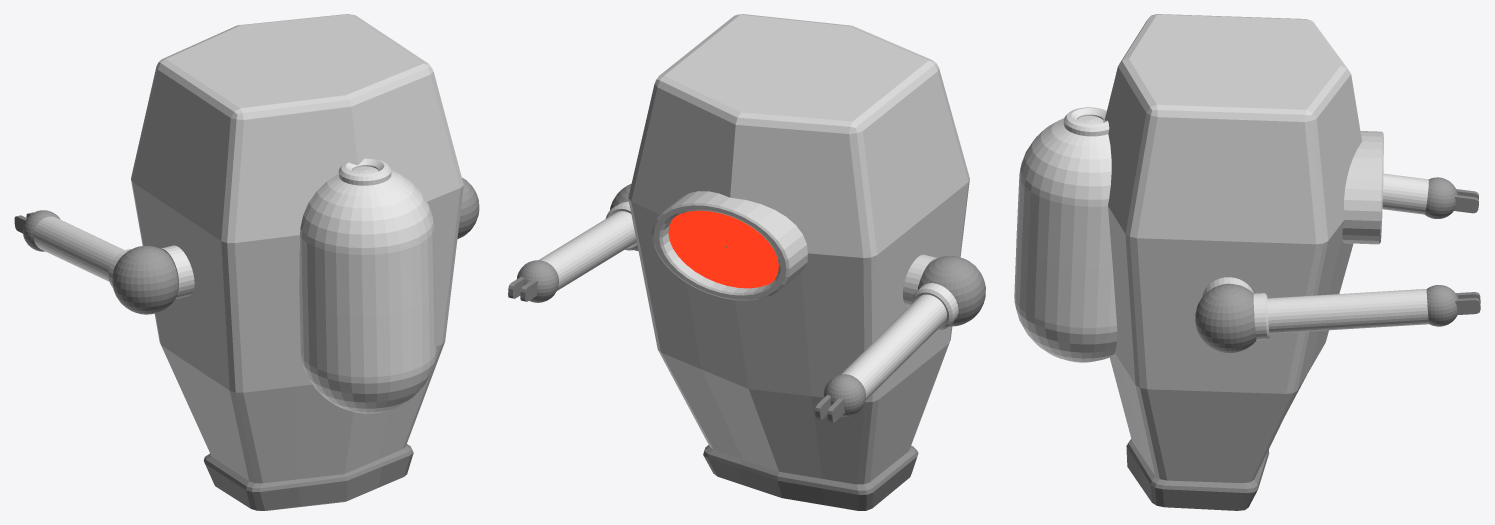
Rendered from Enemy_Robot_1_hovering.fbx.
The picture shows the model from 3 angles, left to right: view 1: azimuth 30°, elevation 25°; view 2: azimuth 150°, elevation 25°; view 3: azimuth 270°, elevation 25°; orthographic projection. The views are drawn at different scales.
Visible parts, largest first — view 1: Enemy-Body, Tank, shoulder-left, Arm-left, Cylinder, shoulder-right, Hand-left; view 2: Enemy-Body, Eye, Arm-left, Arm-right, shoulder-left, Hand-left, Hand-left.001, Cylinder; view 3: Enemy-Body, Tank, Arm-right, Eye, shoulder-right, Arm-left, Hand-left.001, Hand-left.
Boxes of the visible parts, left/top/right/bottom form: Enemy-Body: left=131, top=14, right=463, bottom=510; Tank: left=299, top=158, right=436, bottom=413; shoulder-left: left=112, top=245, right=178, bottom=314; Arm-left: left=33, top=216, right=131, bottom=287; Cylinder: left=161, top=245, right=194, bottom=299; shoulder-right: left=457, top=177, right=479, bottom=239; Hand-left: left=23, top=210, right=60, bottom=251; Enemy-Body: left=628, top=14, right=969, bottom=510; Eye: left=651, top=191, right=807, bottom=300; Arm-left: left=841, top=283, right=958, bottom=399; Arm-right: left=538, top=201, right=637, bottom=290; shoulder-left: left=917, top=256, right=985, bottom=326; Hand-left: left=823, top=374, right=865, bottom=416; Hand-left.001: left=517, top=260, right=558, bottom=302; Cylinder: left=903, top=254, right=937, bottom=306; Enemy-Body: left=1104, top=14, right=1361, bottom=510; Tank: left=1014, top=107, right=1117, bottom=362; Arm-right: left=1253, top=289, right=1429, bottom=340; Eye: left=1342, top=131, right=1383, bottom=244; shoulder-right: left=1195, top=284, right=1256, bottom=353; Arm-left: left=1382, top=173, right=1428, bottom=214; Hand-left.001: left=1426, top=285, right=1458, bottom=326; Hand-left: left=1424, top=177, right=1457, bottom=218.
Size of the model in its own units: 240 by 265 by 269.
